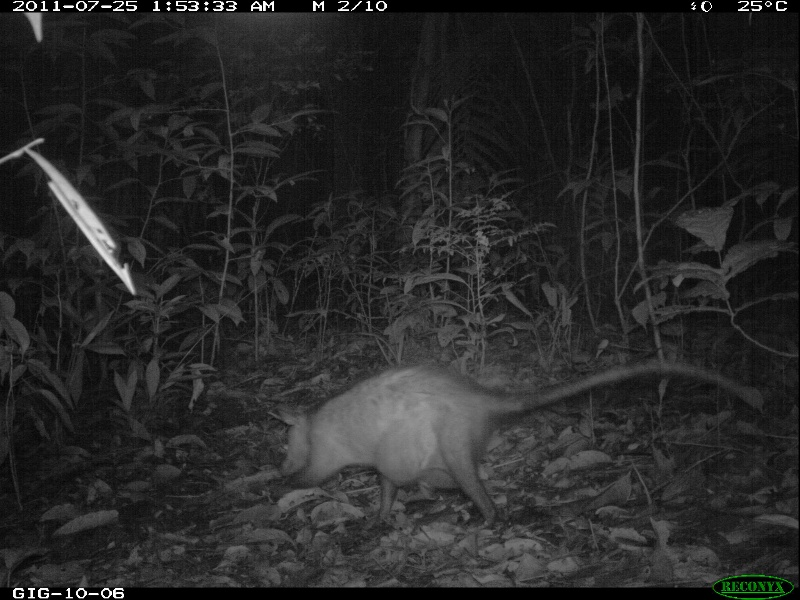opossum: (263, 355, 776, 525)
